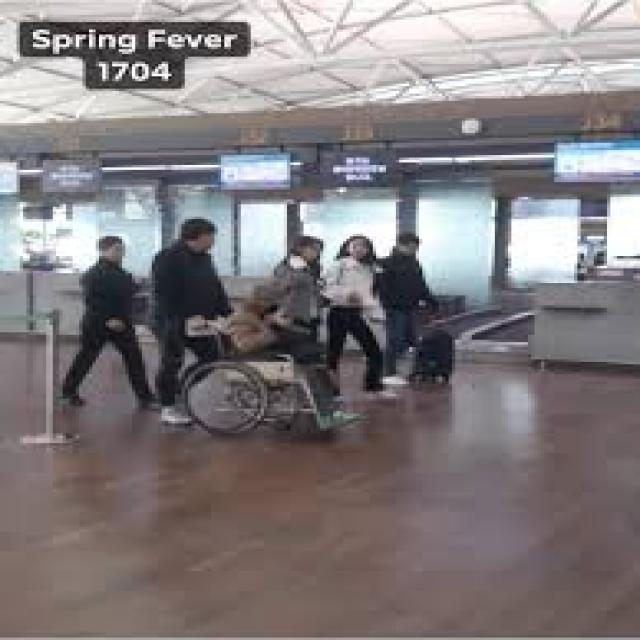wheelchairs: (168, 315, 333, 436)
